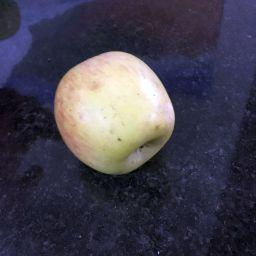apple: (38, 39, 192, 185)
